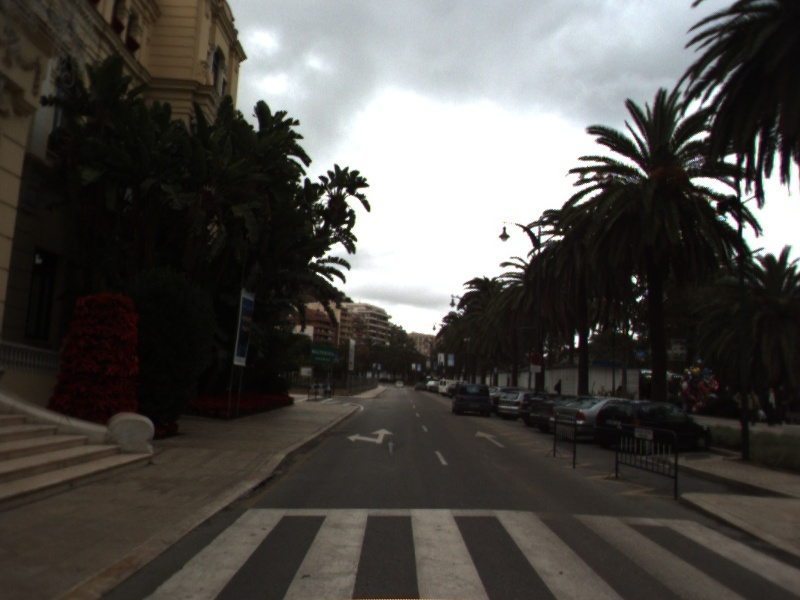STRAIGHT: (472, 429, 509, 450)
STRAIGHT_LEFT: (344, 427, 396, 446)
